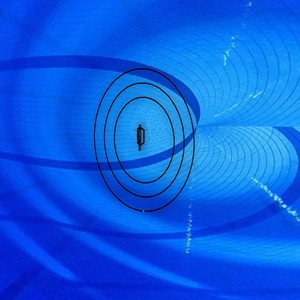circle: (90, 62, 198, 218)
submarine: (128, 124, 150, 154)
